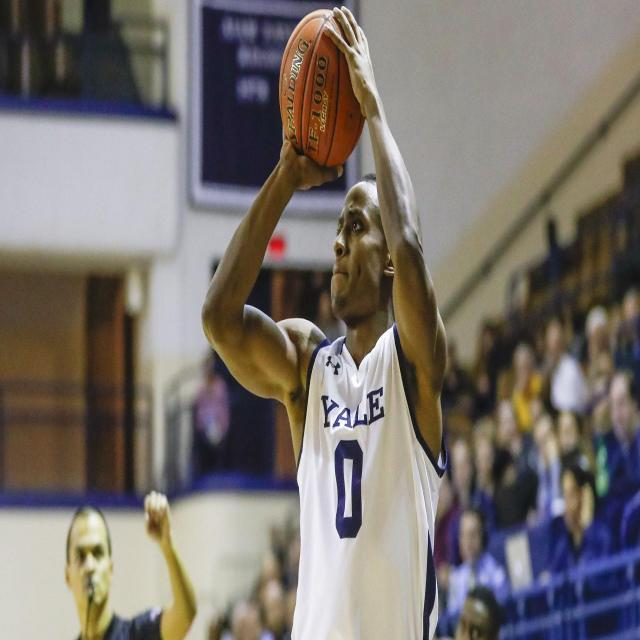Basketball: (280, 9, 366, 169)
